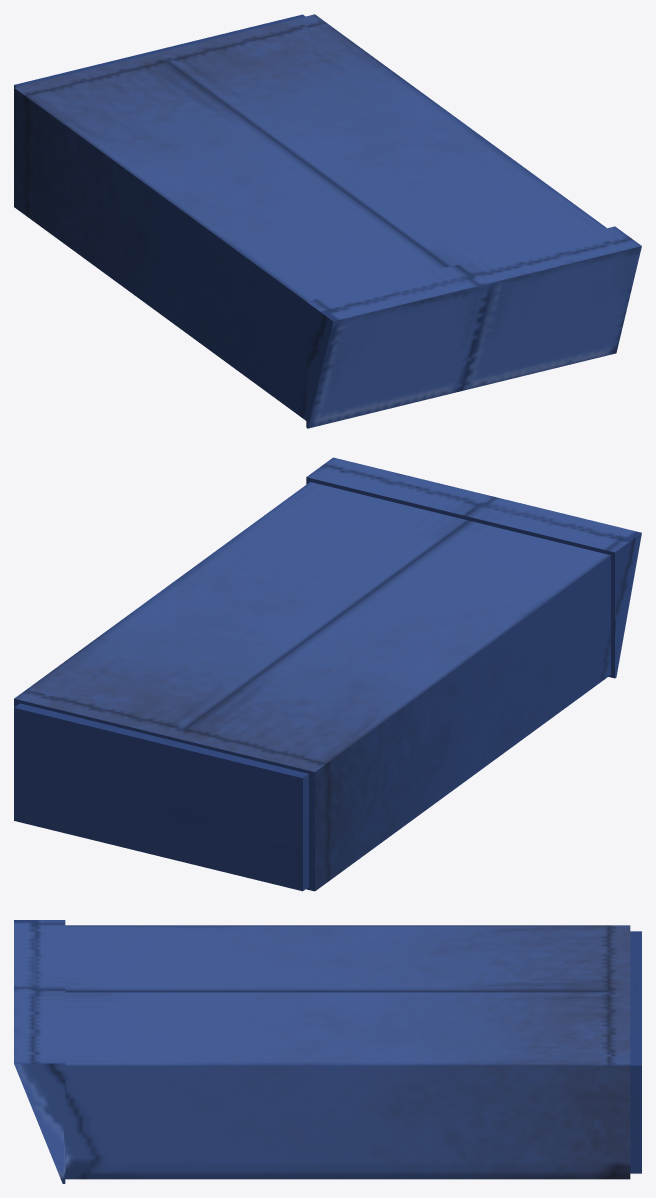
The model's file is pz_g020_furniture_storage_02_blue_wall_locker.obj.
3 views of the same model, one above another, from view 1: azimuth 30°, elevation 25°; view 2: azimuth 150°, elevation 25°; view 3: azimuth 270°, elevation 25° (orthographic). The views are drawn at different scales.
Visible parts, largest first — view 1: locker_body_front, locker_body_right, sloped_roof_top, sloped_roof_rear, sloped_roof_right, recessed_plinth_front; view 2: locker_body_front, locker_body_right, recessed_plinth_bottom, sloped_roof_rear, recessed_plinth_front, sloped_roof_bottom, locker_body_bottom, sloped_roof_right, recessed_plinth_right; view 3: locker_body_front, locker_body_left, sloped_roof_rear, sloped_roof_left, recessed_plinth_front, recessed_plinth_left.
Part boxes in pixels (left/top/right/bottom): locker_body_front: left=14, top=14, right=606, bottom=301; locker_body_right: left=14, top=88, right=306, bottom=420; sloped_roof_top: left=308, top=246, right=641, bottom=428; sloped_roof_rear: left=307, top=226, right=641, bottom=321; sloped_roof_right: left=306, top=302, right=332, bottom=428; recessed_plinth_front: left=14, top=14, right=305, bottom=86; locker_body_front: left=14, top=482, right=610, bottom=771; locker_body_right: left=315, top=555, right=610, bottom=890; recessed_plinth_bottom: left=14, top=708, right=302, bottom=891; sloped_roof_rear: left=306, top=457, right=641, bottom=552; recessed_plinth_front: left=14, top=703, right=308, bottom=778; sloped_roof_bottom: left=306, top=477, right=614, bottom=678; locker_body_bottom: left=14, top=698, right=314, bottom=891; sloped_roof_right: left=615, top=533, right=641, bottom=678; recessed_plinth_right: left=303, top=774, right=308, bottom=890; locker_body_front: left=65, top=925, right=630, bottom=1065; locker_body_left: left=65, top=1065, right=630, bottom=1179; sloped_roof_rear: left=14, top=920, right=65, bottom=1063; sloped_roof_left: left=14, top=1063, right=65, bottom=1183; recessed_plinth_front: left=630, top=931, right=641, bottom=1065; recessed_plinth_left: left=630, top=1065, right=641, bottom=1173.
Size of the model in its own units: 1.03 by 0.4031 by 1.89.
Materials: 1 (1 with a texture image).
